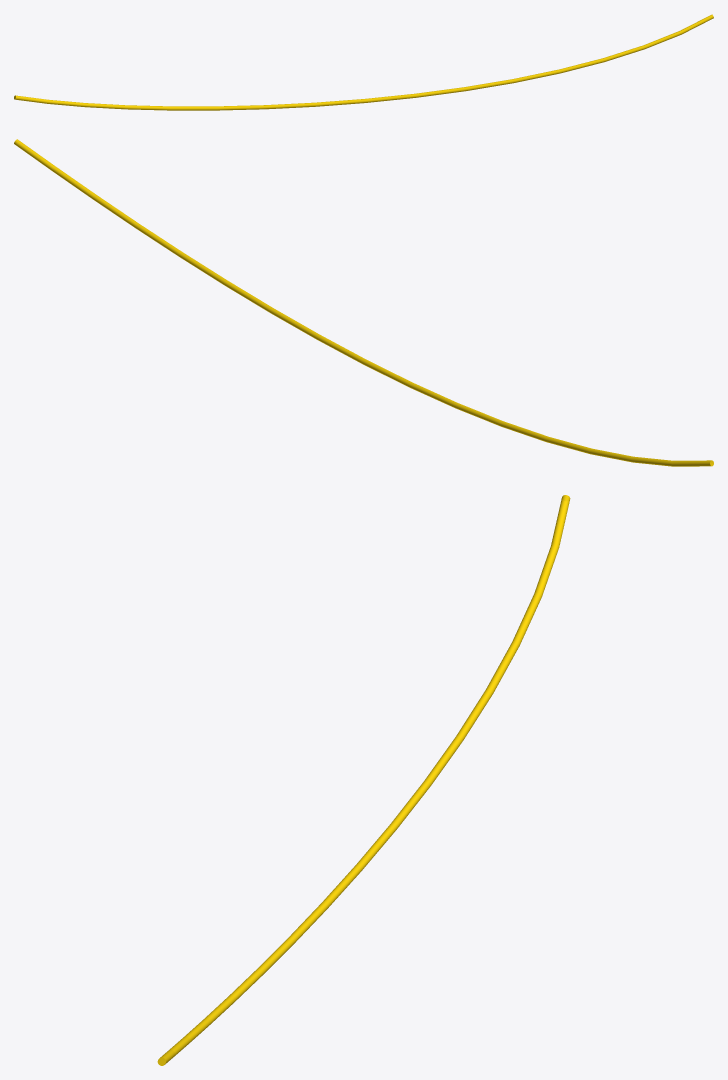
File: Event_421364160_track_38.fbx
3 renders of one model, top to bottom at view 1: azimuth 30°, elevation 25°; view 2: azimuth 150°, elevation 25°; view 3: azimuth 270°, elevation 25°, orthographic. The views are drawn at different scales.
Parts seen in each view (by area): view 1: Model; view 2: Model; view 3: Model.
Part boxes in pixels (box(x1,y1,x2,y2)): Model: box(14, 14, 713, 110); Model: box(14, 139, 713, 466); Model: box(157, 495, 570, 1065).
Size of the model in its own units: 6.53 by 0.5405 by 1.95.
